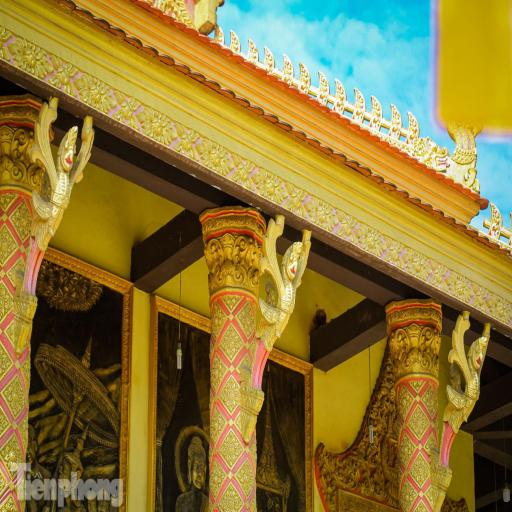hoa: (11, 32, 52, 82), (136, 100, 175, 148), (194, 134, 234, 178), (79, 70, 111, 114), (305, 194, 337, 233), (1, 372, 28, 418), (255, 164, 284, 204), (356, 222, 386, 258), (444, 269, 474, 303), (218, 322, 244, 361), (404, 246, 432, 282), (234, 456, 257, 499), (406, 404, 432, 442), (1, 434, 25, 475), (219, 429, 244, 468), (218, 375, 242, 414), (11, 200, 33, 240), (408, 452, 432, 488), (488, 292, 512, 325), (219, 481, 244, 512), (208, 458, 226, 499), (209, 350, 226, 393), (422, 381, 441, 419), (396, 429, 414, 469), (0, 280, 17, 322), (237, 299, 256, 336), (397, 476, 416, 512), (0, 224, 16, 266), (210, 404, 226, 444), (210, 302, 226, 340), (0, 340, 12, 384), (22, 352, 33, 396), (400, 386, 414, 420), (219, 296, 244, 314), (424, 482, 439, 510), (20, 405, 28, 456), (0, 404, 11, 438), (0, 193, 18, 212), (248, 442, 260, 468), (409, 377, 427, 394), (0, 492, 15, 512), (426, 432, 437, 454), (414, 497, 430, 512), (249, 491, 260, 512), (0, 472, 7, 499)
la: (356, 400, 388, 450), (320, 455, 356, 490), (357, 456, 384, 498), (53, 54, 77, 96), (176, 120, 196, 160), (232, 153, 254, 189), (284, 182, 304, 215), (338, 209, 356, 241), (117, 100, 138, 126), (386, 236, 404, 266), (472, 281, 489, 311), (430, 260, 447, 288), (0, 26, 10, 62)
lua: (488, 200, 504, 238), (369, 93, 383, 132), (333, 76, 346, 116), (353, 85, 366, 125), (316, 68, 329, 105), (389, 104, 402, 140), (299, 59, 312, 93), (407, 110, 418, 146), (283, 52, 294, 80), (248, 38, 260, 63), (227, 29, 240, 52), (262, 46, 275, 68), (213, 24, 224, 45)
than: (23, 113, 96, 295), (250, 228, 311, 388), (440, 313, 492, 467), (46, 434, 88, 512), (177, 430, 210, 512)
